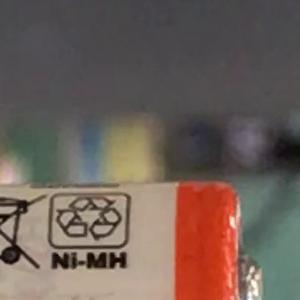keyword: (41, 242, 137, 279)
